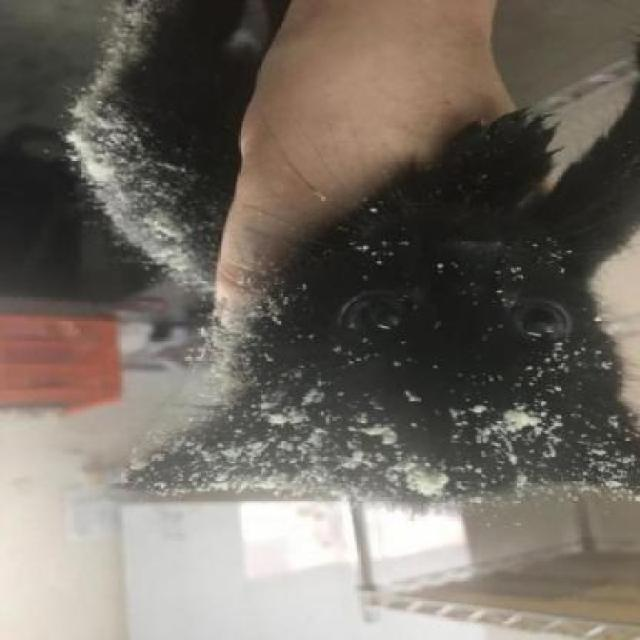cat: (67, 0, 640, 544)
